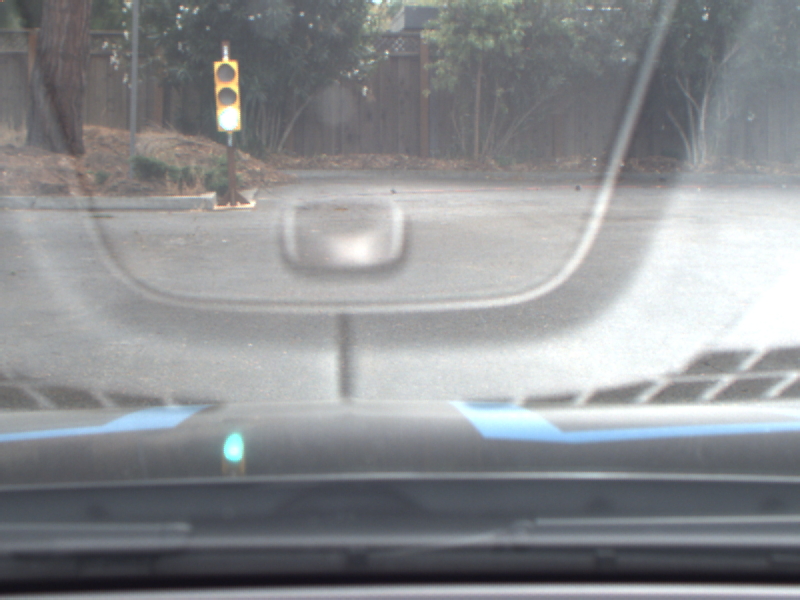green: (211, 61, 243, 132)
